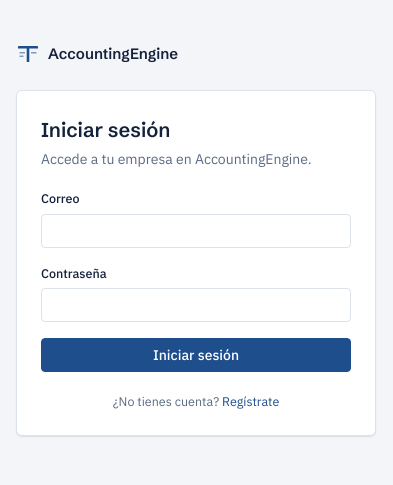
LoginPage › shows the server error without navigating away
Type "owner@acme.test" into the field labelled "Correo" at point(196, 231), box [41,214,351,248]
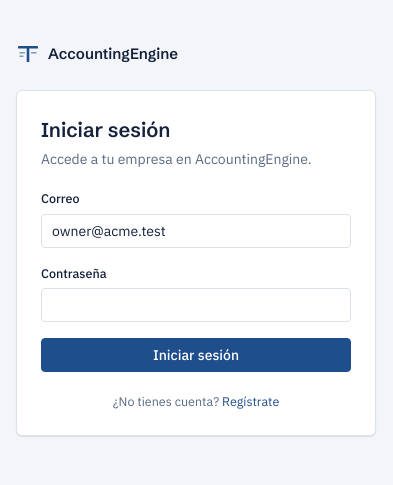
Type "wrong" into the password field labelled "Contraseña" at point(196, 305), box [41,288,351,322]
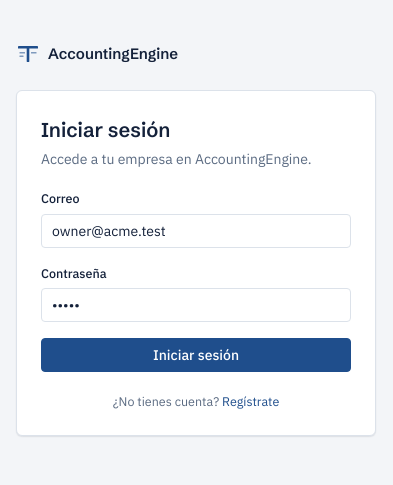
Click the button "Iniciar sesión" at point(196, 355), box [41,338,351,372]
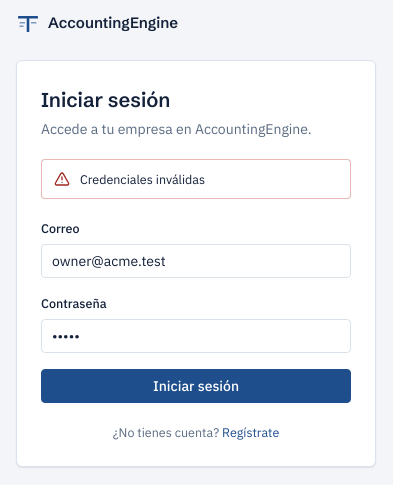
Expected: the heading "Iniciar sesión" is shown, [41,86,170,112]
Expected: the message reads "Credenciales inválidas", [80,170,205,186]
